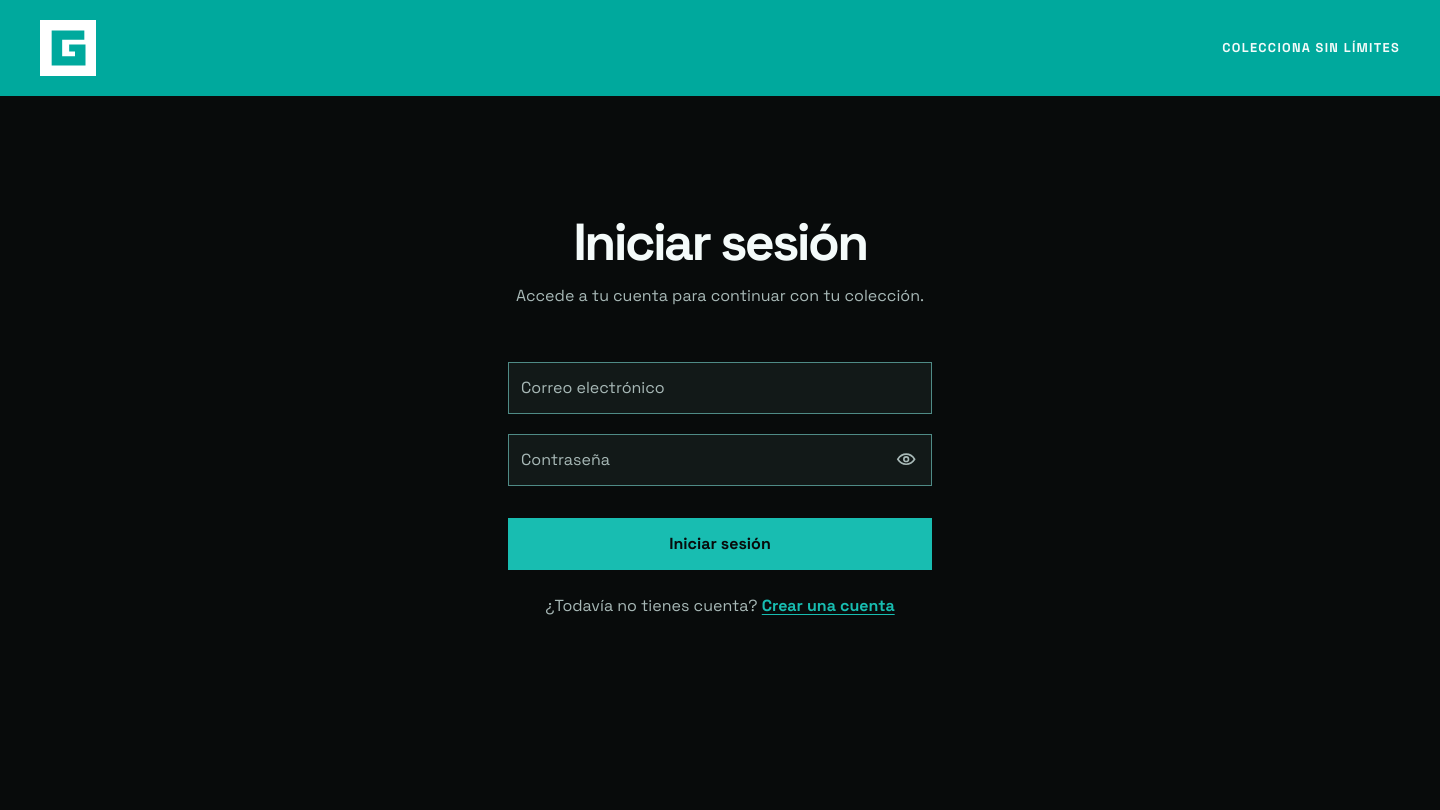
Scenario: autenticación › muestra el error devuelto al rechazar el acceso
Check: the heading "Iniciar sesión" is shown, box [573,209,867,275]
In the field labelled "Correo electrónico": (720, 388) [508,362,932,414], type "ada@example.com"
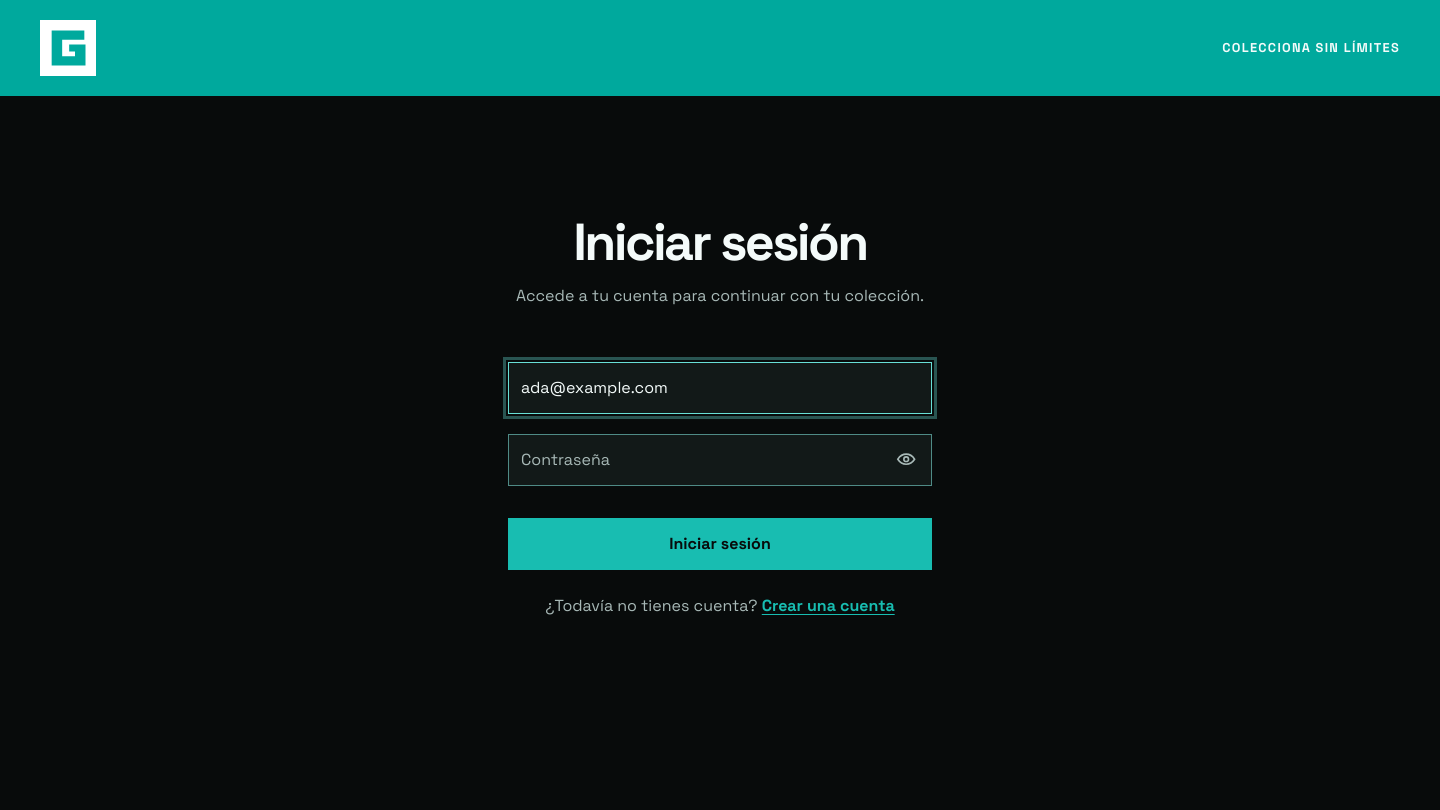
In the password field labelled "Contraseña": (720, 460) [508,434,932,486], type "clave-incorrecta"
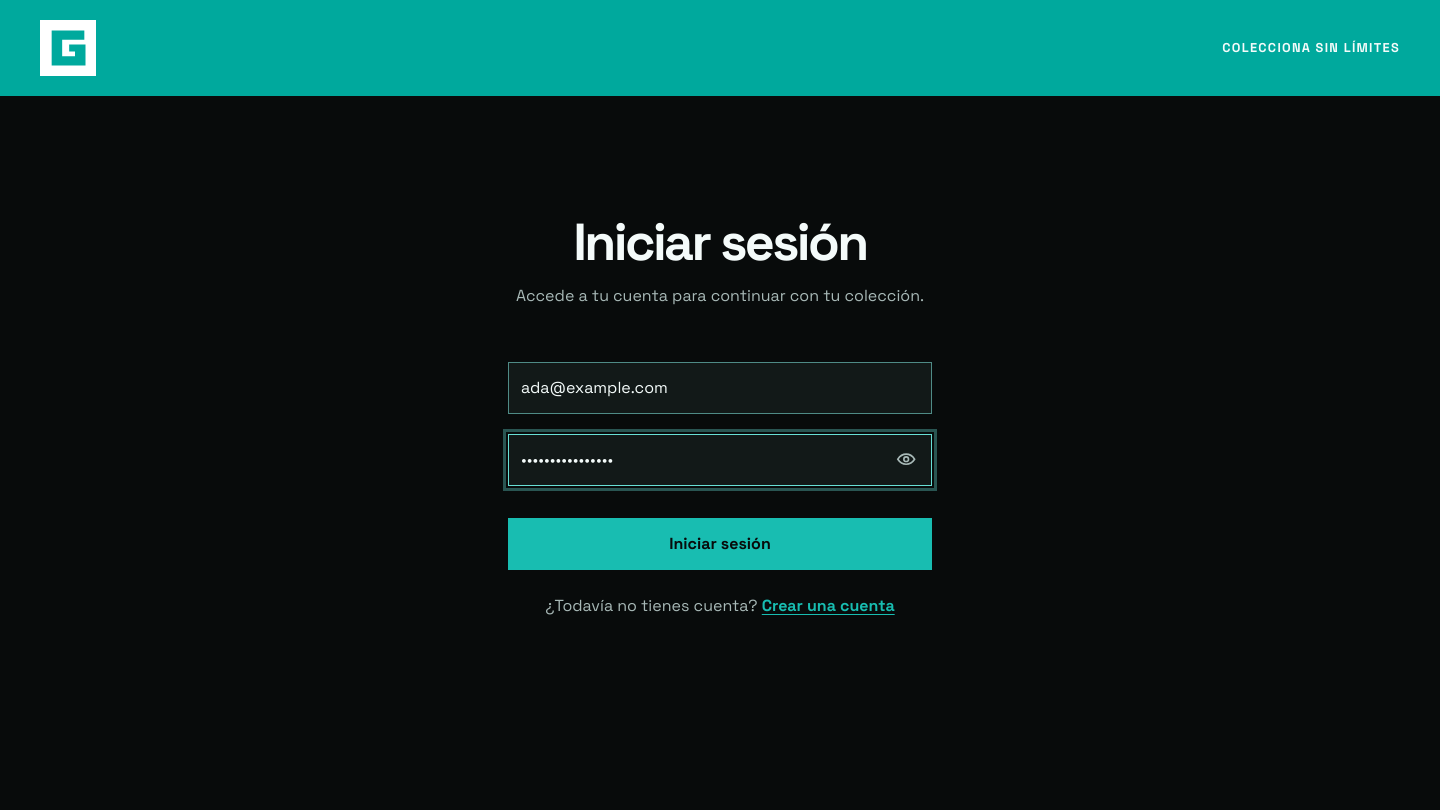
Click the button "Iniciar sesión": (720, 544) [508,518,932,570]
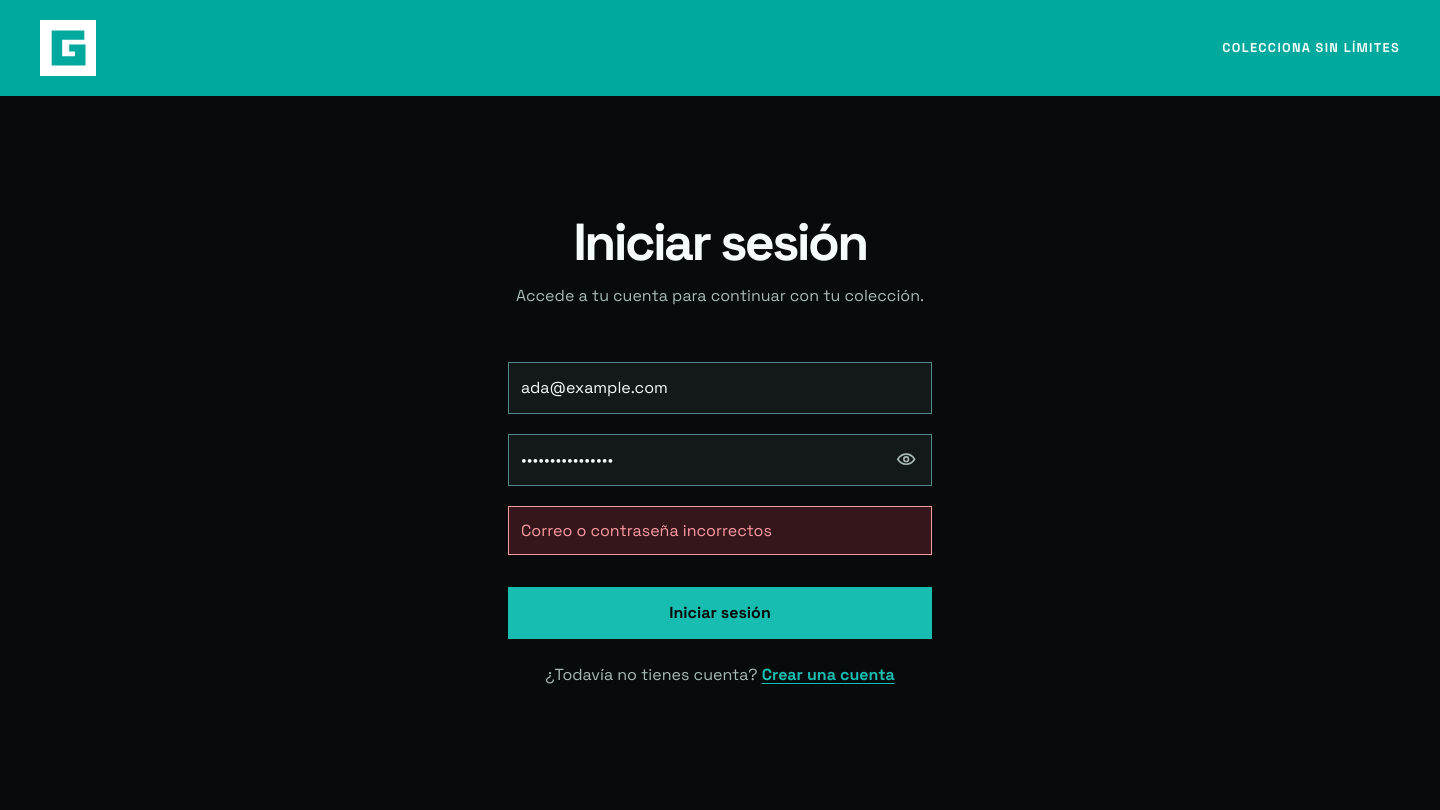
Check: the message reads "Correo o contraseña incorrectos", box [521,520,772,541]
